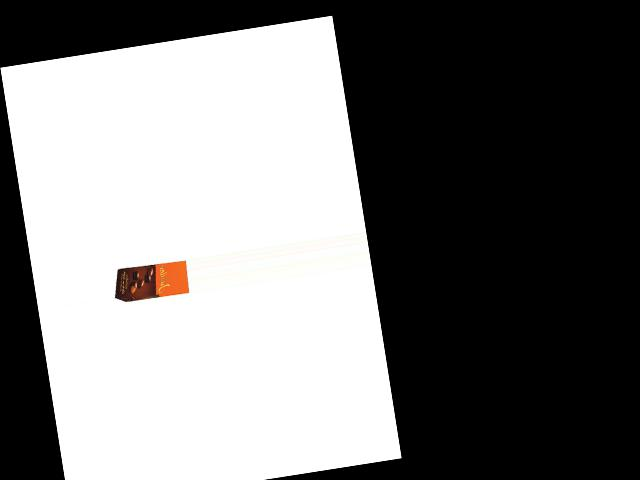chocolate: (110, 254, 190, 305)
